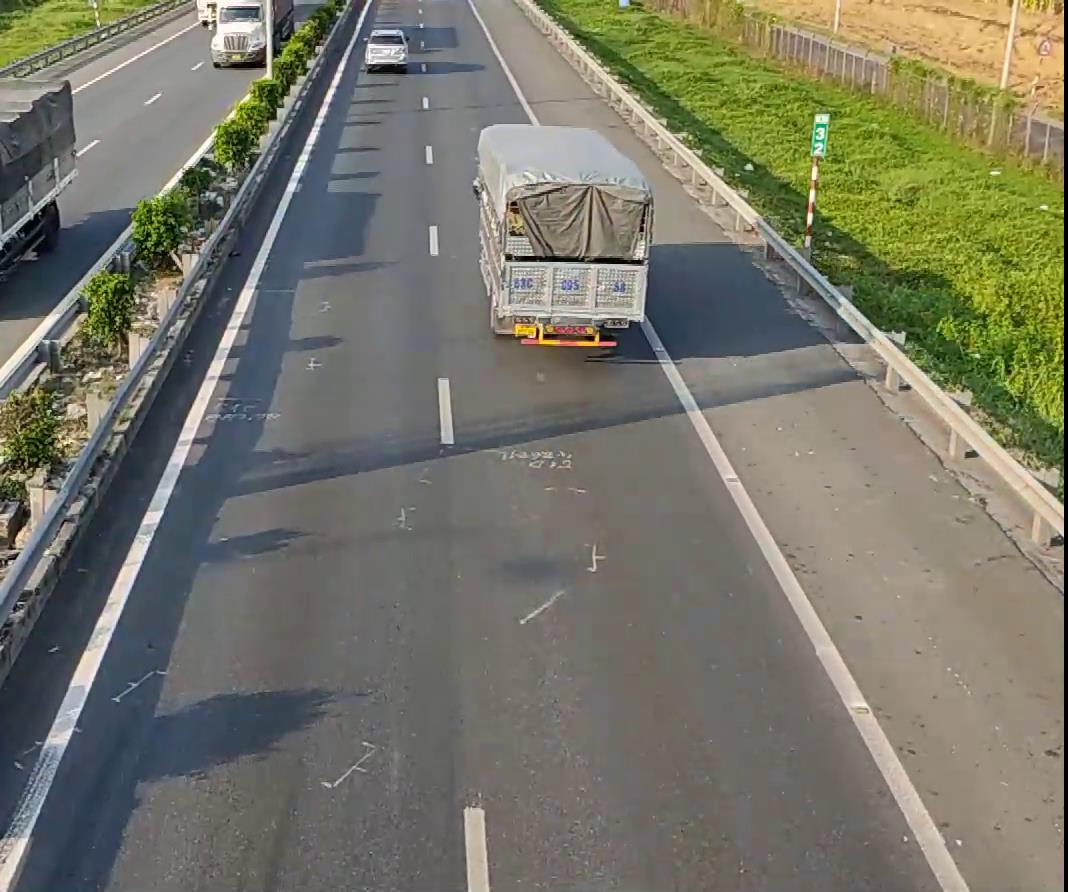truck: (467, 112, 660, 363), (0, 74, 78, 346), (207, 0, 277, 67)
